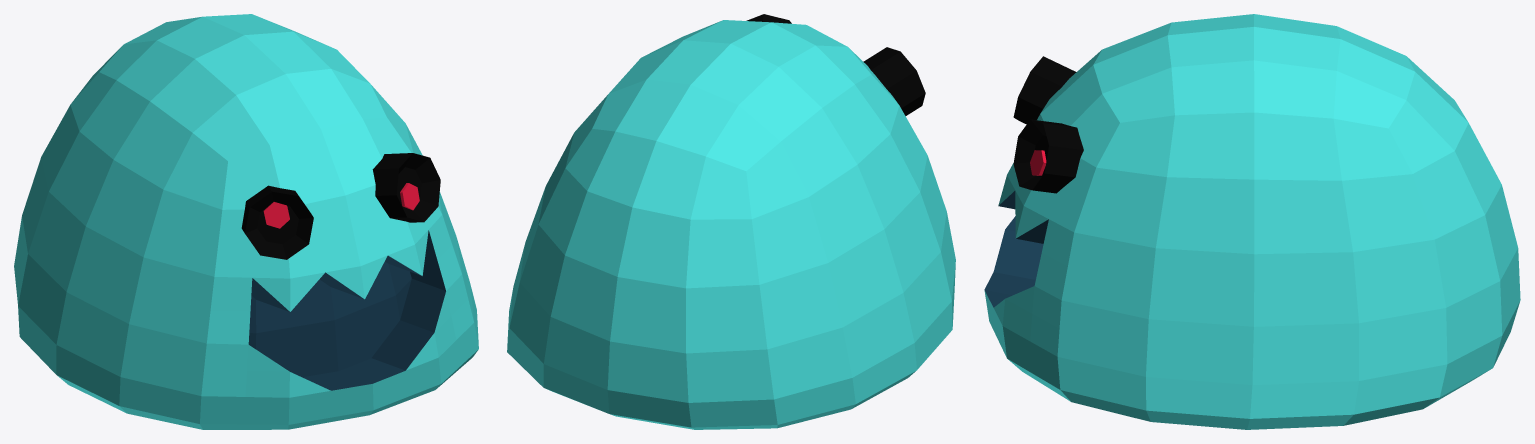
Rendered from Slime.fbx.
3 renders of one model, left to right at view 1: azimuth 30°, elevation 25°; view 2: azimuth 150°, elevation 25°; view 3: azimuth 270°, elevation 25°, orthographic. The views are drawn at different scales.
Visible parts, largest first — view 1: Slime; view 2: Slime; view 3: Slime.
Part boxes in pixels (bbox=[...]): Slime: bbox=[14, 14, 478, 429]; Slime: bbox=[507, 14, 955, 429]; Slime: bbox=[984, 14, 1520, 429].
Size of the model in its own units: 801 by 611 by 931.
